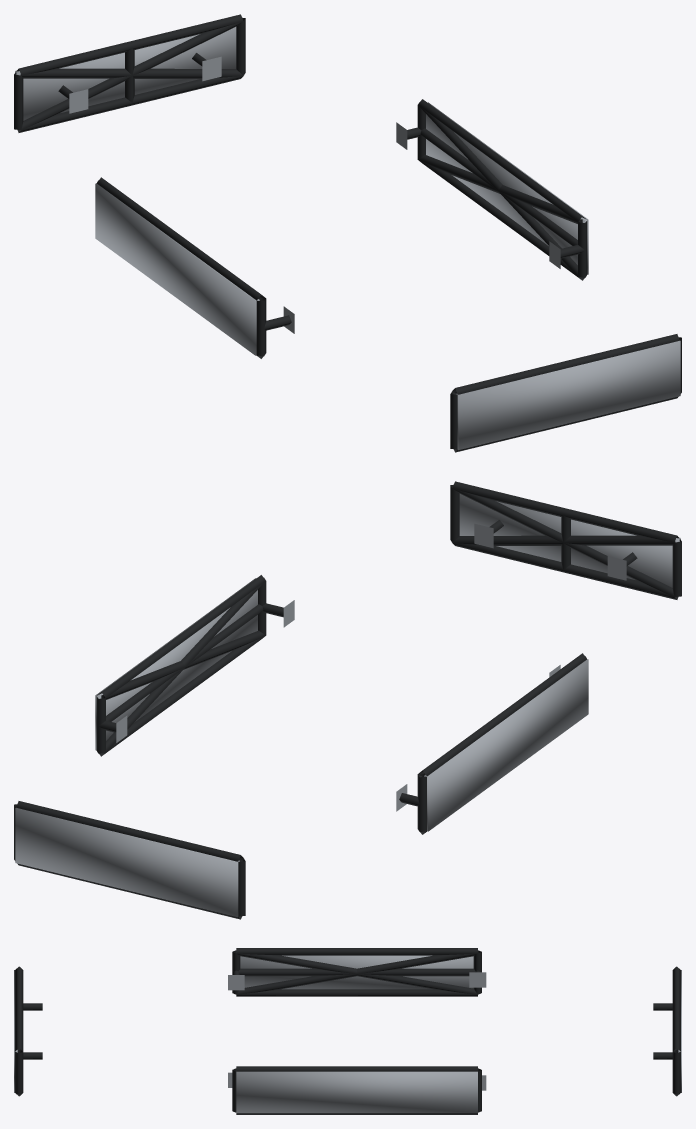
Rendered from volnar_tijolo_protecao.glb.
The picture shows the model from 3 angles, top to bottom: view 1: azimuth 30°, elevation 25°; view 2: azimuth 150°, elevation 25°; view 3: azimuth 270°, elevation 25°; orthographic projection. The views are drawn at different scales.
Parts seen in each view (by area): view 1: Protection_front_Level3_Details, Protection_left_Level3_Details, Protection_rear_Level1_Details, Protection_rear_Level3_Details, Protection_right_Level1_Details, Protection_right_Level2_Details, Protection_rear_Level2_Details, Protection_right_Level3_Details, Protection_front_Level1_Details, Protection_left_Level1_Details; view 2: Protection_rear_Level3_Details, Protection_left_Level3_Details, Protection_front_Level1_Details, Protection_front_Level3_Details, Protection_right_Level1_Details, Protection_right_Level2_Details, Protection_front_Level2_Details, Protection_right_Level3_Details, Protection_rear_Level1_Details, Protection_left_Level1_Details; view 3: Protection_right_Level3_Details, Protection_left_Level2_Details, Protection_left_Level1_Details, Protection_left_Level3_Details, Protection_right_Level1_Details, Protection_rear_Level1_Details, Protection_front_Level1_Details.
Part boxes in pixels (x1=…): Protection_front_Level3_Details: x1=456, y1=340, x2=680, y2=450; Protection_left_Level3_Details: x1=95, y1=183, x2=259, y2=355; Protection_rear_Level1_Details: x1=14, y1=14, x2=245, y2=132; Protection_rear_Level3_Details: x1=15, y1=27, x2=236, y2=120; Protection_right_Level1_Details: x1=396, y1=99, x2=587, y2=280; Protection_right_Level2_Details: x1=418, y1=106, x2=586, y2=279; Protection_rear_Level2_Details: x1=16, y1=21, x2=242, y2=131; Protection_right_Level3_Details: x1=426, y1=102, x2=588, y2=274; Protection_front_Level1_Details: x1=450, y1=334, x2=681, y2=452; Protection_left_Level1_Details: x1=96, y1=177, x2=294, y2=358; Protection_rear_Level3_Details: x1=15, y1=807, x2=239, y2=917; Protection_left_Level3_Details: x1=424, y1=659, x2=588, y2=831; Protection_front_Level1_Details: x1=450, y1=481, x2=681, y2=599; Protection_front_Level3_Details: x1=459, y1=494, x2=680, y2=587; Protection_right_Level1_Details: x1=96, y1=575, x2=294, y2=756; Protection_right_Level2_Details: x1=97, y1=581, x2=265, y2=755; Protection_front_Level2_Details: x1=453, y1=488, x2=679, y2=598; Protection_right_Level3_Details: x1=95, y1=578, x2=257, y2=750; Protection_rear_Level1_Details: x1=14, y1=801, x2=245, y2=919; Protection_left_Level1_Details: x1=396, y1=653, x2=586, y2=834; Protection_right_Level3_Details: x1=236, y1=1071, x2=477, y2=1113; Protection_left_Level2_Details: x1=236, y1=952, x2=478, y2=994; Protection_left_Level1_Details: x1=228, y1=948, x2=486, y2=996; Protection_left_Level3_Details: x1=240, y1=955, x2=473, y2=989; Protection_right_Level1_Details: x1=228, y1=1066, x2=486, y2=1114; Protection_rear_Level1_Details: x1=653, y1=966, x2=680, y2=1096; Protection_front_Level1_Details: x1=15, y1=966, x2=42, y2=1096.
Bounding box in the file's own units: 1.91 × 0.354 × 4.4.
1 material, 1 textured.
